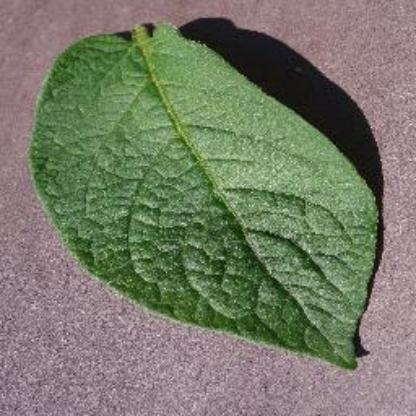Healthy-plant: (27, 19, 384, 375)
